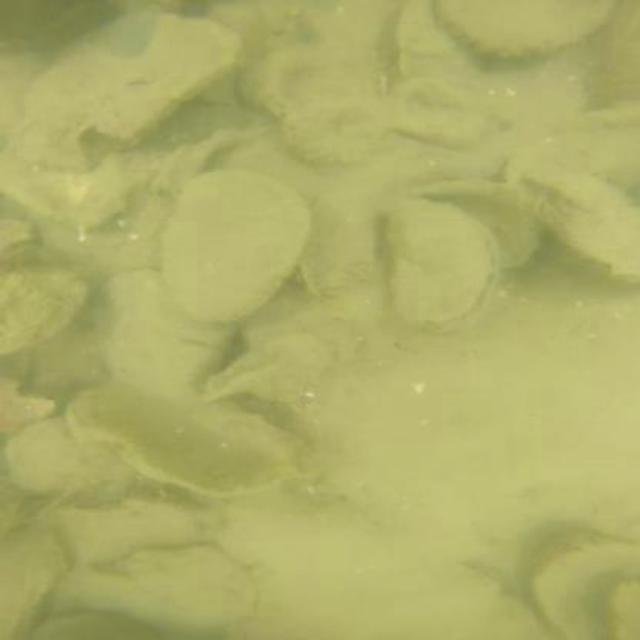Oyster-Closed: (15, 15, 241, 168), (161, 167, 308, 320), (90, 271, 222, 401), (58, 547, 257, 633), (388, 199, 490, 329), (239, 41, 381, 114), (433, 0, 612, 56), (59, 500, 216, 562), (2, 420, 130, 493), (0, 264, 86, 353), (283, 95, 387, 165), (384, 80, 485, 145), (8, 527, 62, 635), (398, 4, 472, 78), (32, 610, 161, 638)
Oyster-Open: (513, 172, 634, 283), (199, 393, 316, 460)
